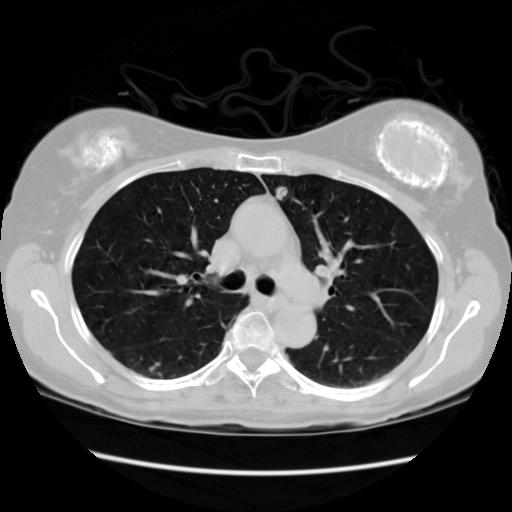nodule: (272, 184, 290, 202)
